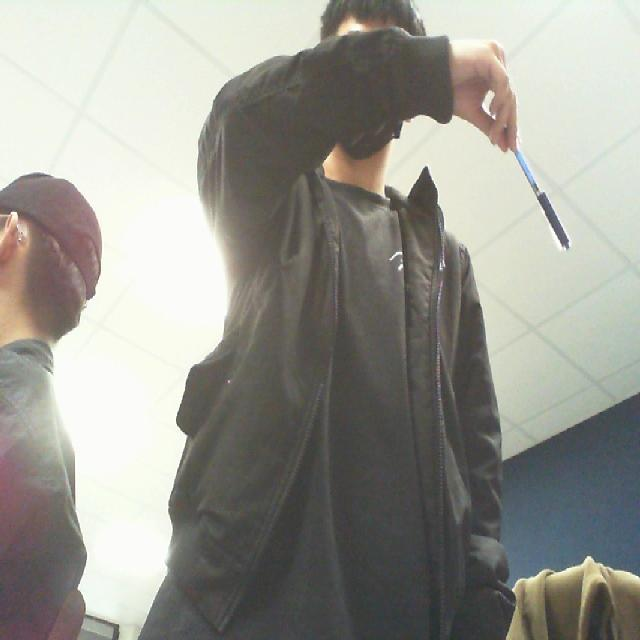Pen: (502, 141, 592, 274)
